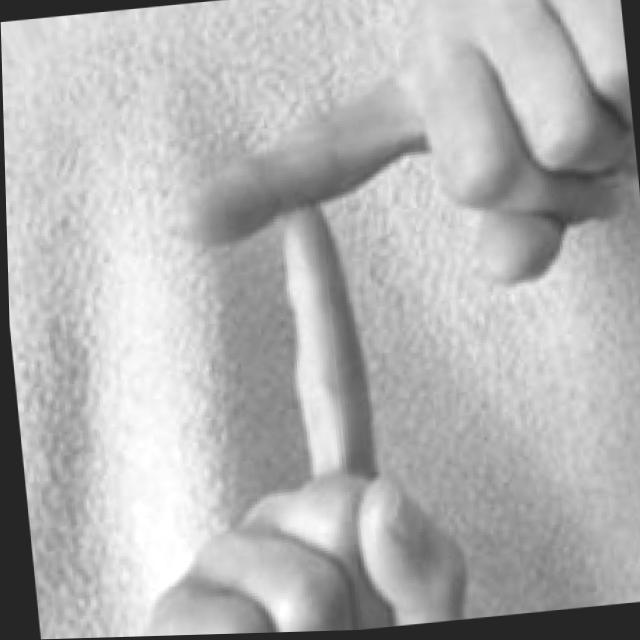T: (86, 0, 640, 637)
